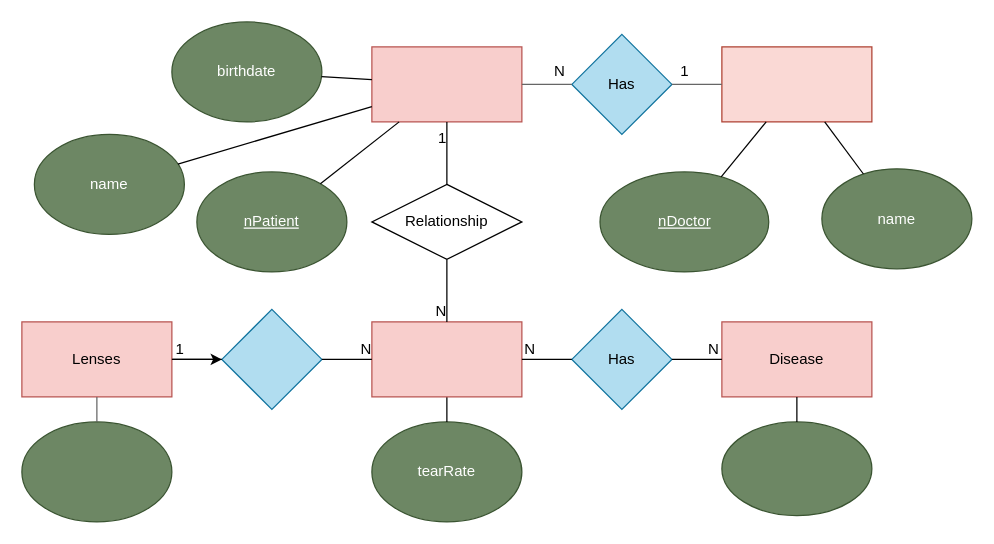
This 994x544 diagram has some shape labels left out. Each missing label, with the centre of its shape:
Diagnosis: [446,359]
diseaseName: [796,468]
Doctor: [796,84]
Needs: [271,358]
Paciente: [446,84]
typeLenses: [96,471]
